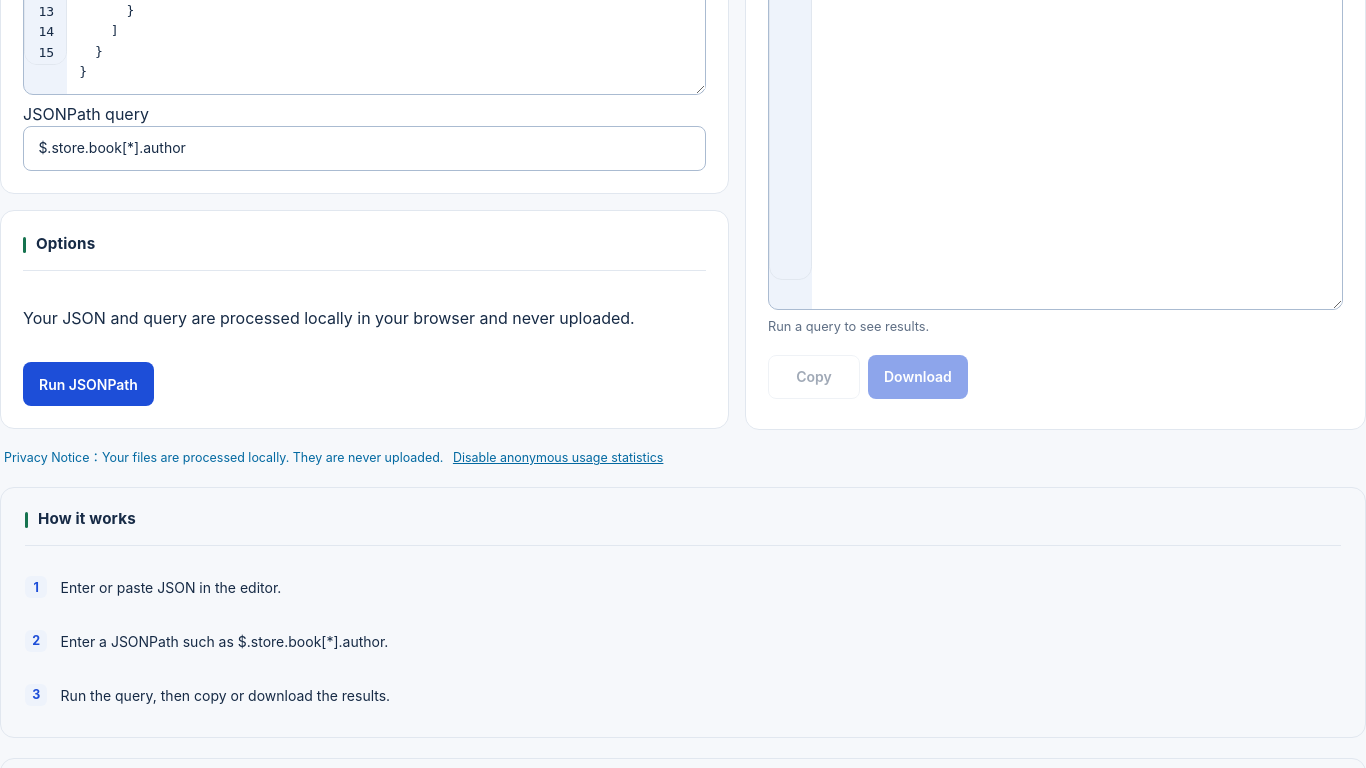
Test: JsonPathTesterPage › runs the sample query locally and exposes copy/download output actions
The image size is (1366, 768).
(page scrolled)
What coordinates should you click on to do the following:
click the button "Run JSONPath"
I would click on:
 (88, 384)
Its box is [23,362,154,406].
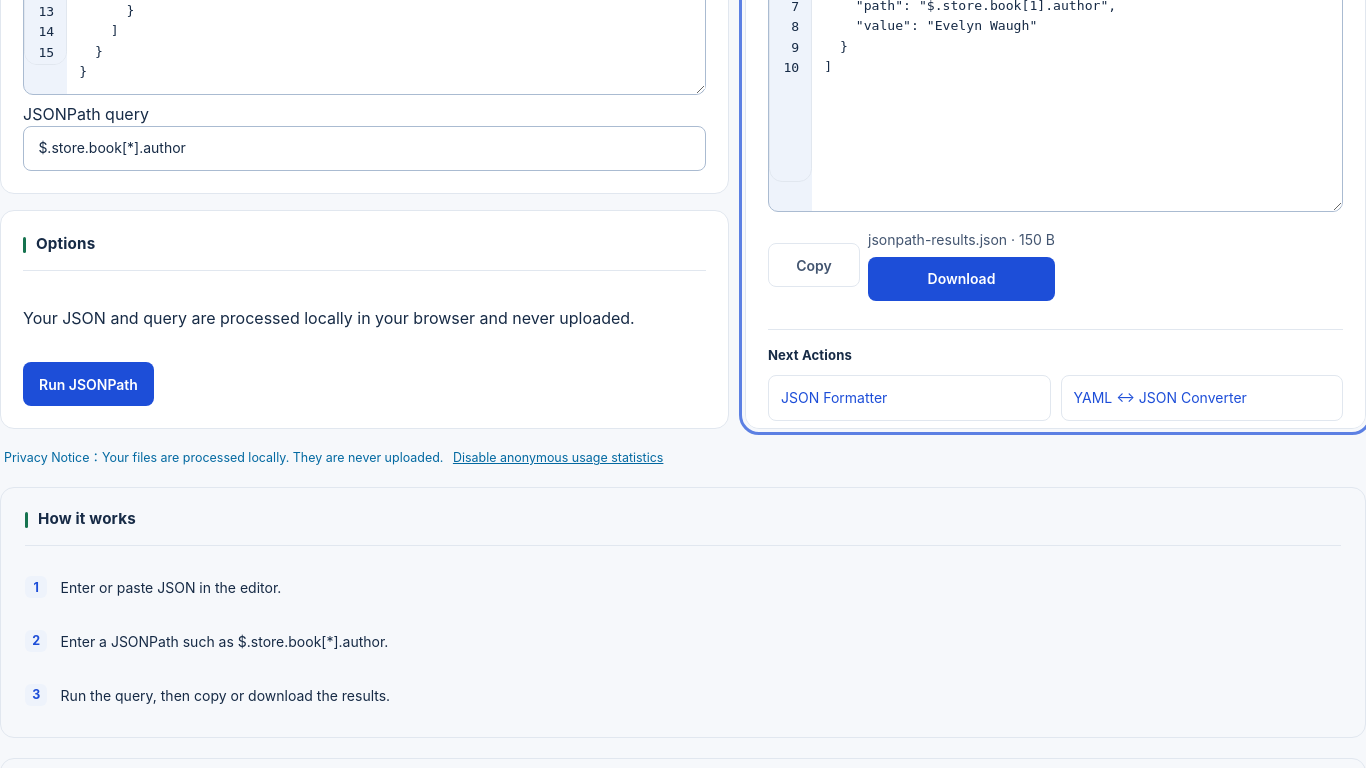
Check: the button "Copy" is enabled, box [768,244,860,288]
Check: the button "Download" is enabled, box [868,257,1055,301]
